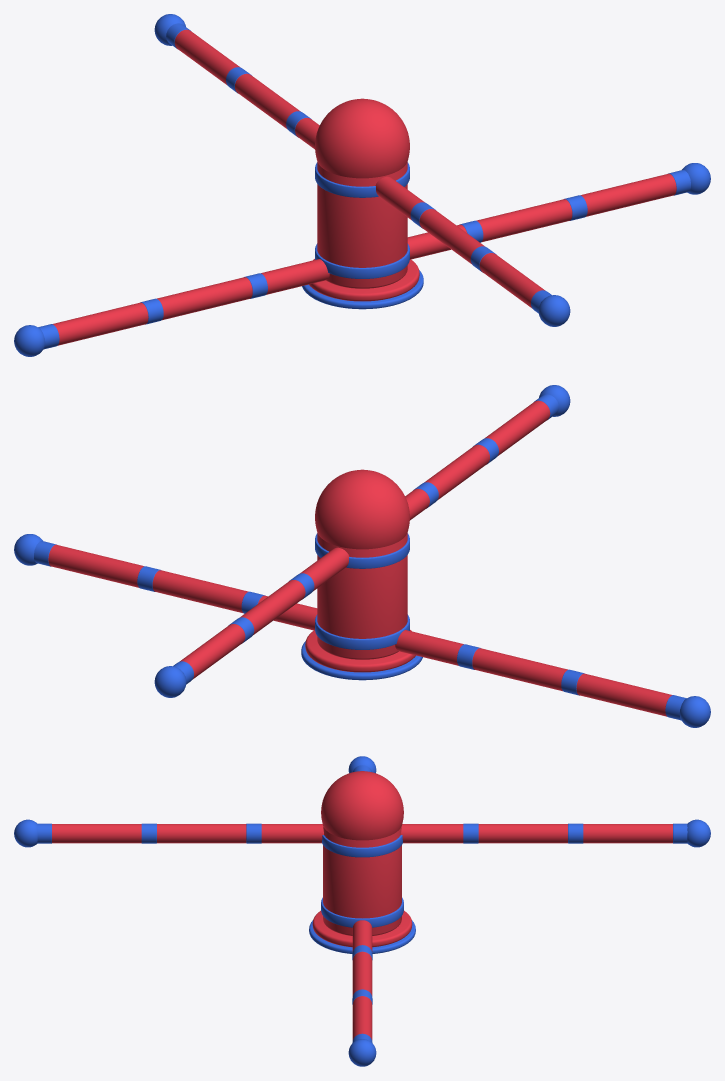
Rendered from SD_Sweeper_Double.fbx.
3 views of the same model, one above another, from view 1: azimuth 30°, elevation 25°; view 2: azimuth 150°, elevation 25°; view 3: azimuth 270°, elevation 25° (orthographic). The views are drawn at different scales.
Parts seen in each view (by area): view 1: Arm, Base; view 2: Arm, Base; view 3: Arm, Base.
Part boxes in pixels (x1,y1,x2,y2): Arm: (14,14,710,356); Base: (302,98,423,309); Arm: (14,385,710,727); Base: (301,469,422,680); Arm: (14,756,710,1066); Base: (309,771,415,953).
Size of the model in its own units: 15 by 3.74 by 15.
